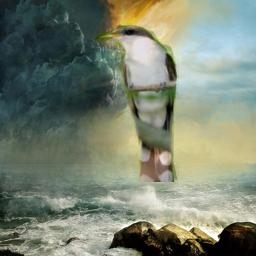Cuckoo: (94, 24, 179, 182)
